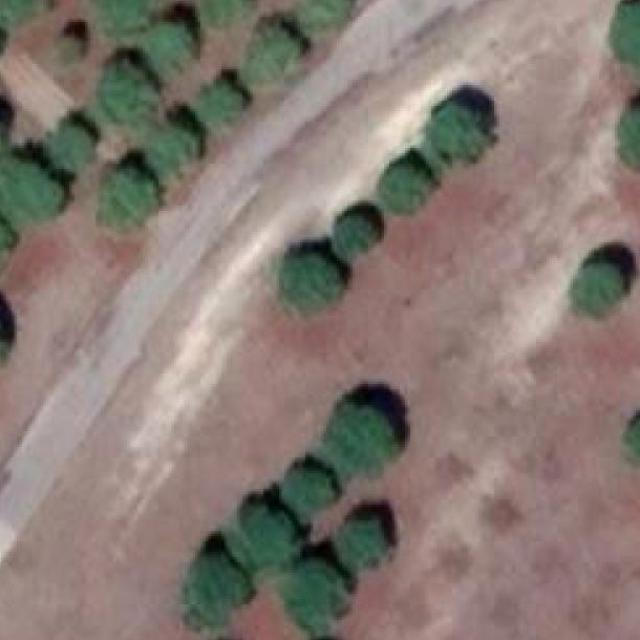Tree: (278, 557, 358, 632), (182, 547, 250, 625), (325, 405, 397, 472), (94, 167, 160, 232), (428, 94, 494, 158), (284, 250, 348, 310), (0, 156, 59, 220), (237, 512, 298, 572), (241, 22, 297, 84), (42, 116, 104, 170), (101, 69, 155, 127), (377, 162, 433, 215), (574, 258, 627, 314), (131, 20, 186, 73), (150, 120, 203, 172), (340, 513, 389, 568), (86, 0, 148, 42), (202, 80, 251, 130), (281, 468, 330, 515), (293, 0, 360, 33), (610, 0, 640, 73), (332, 214, 376, 258), (51, 20, 92, 66), (0, 0, 49, 32), (617, 109, 640, 172), (204, 0, 251, 29), (625, 416, 640, 476), (0, 318, 17, 368), (0, 216, 15, 272), (0, 116, 9, 165)
